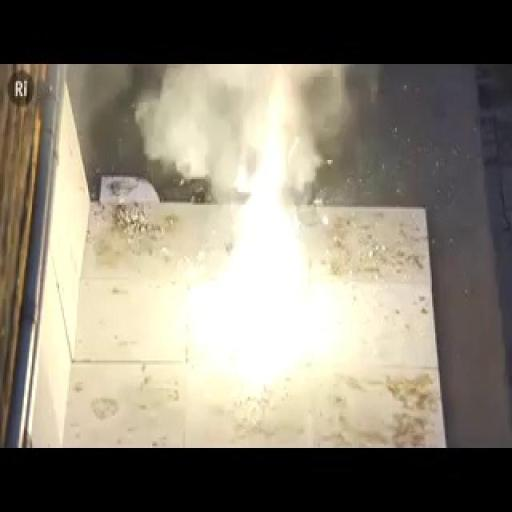smoke: (190, 111, 320, 384)
